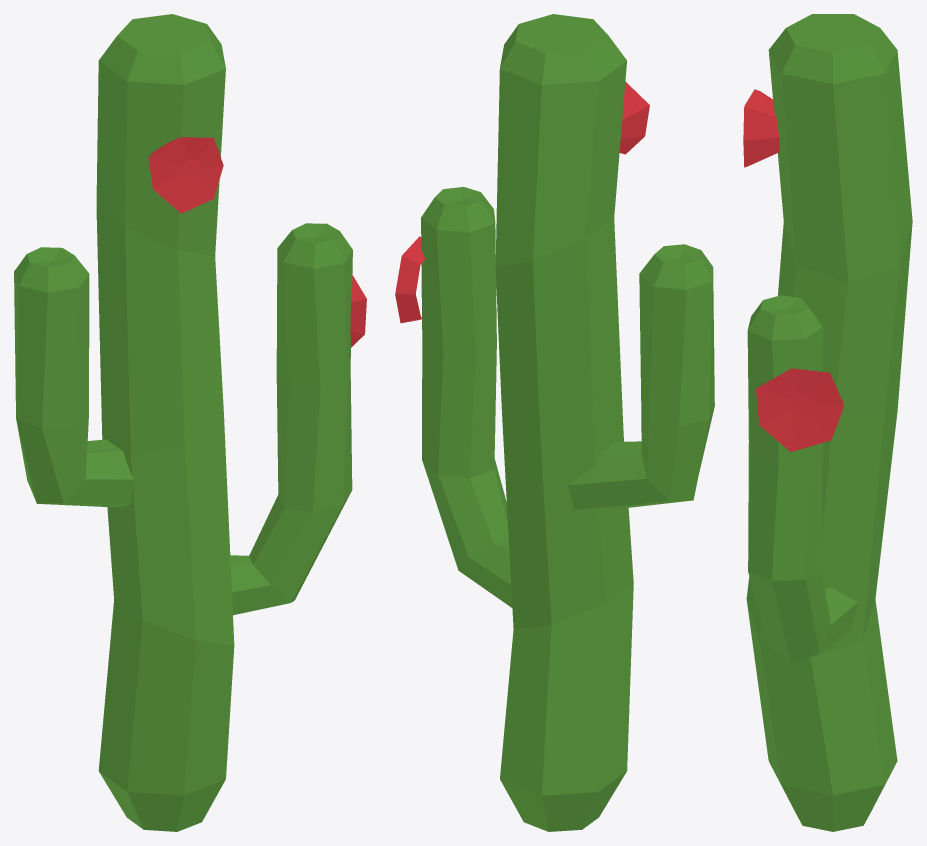
Rendered from cactus-big.glb.
3 renders of one model, left to right at view 1: azimuth 30°, elevation 25°; view 2: azimuth 150°, elevation 25°; view 3: azimuth 270°, elevation 25°, orthographic.
Visible parts, largest first — view 1: cactus-big; view 2: cactus-big; view 3: cactus-big.
Boxes of the visible parts, box(x1,y1,x2,y2) form: cactus-big: box(14, 14, 366, 831); cactus-big: box(395, 14, 714, 831); cactus-big: box(743, 14, 912, 831).
Bounding box in the file's own units: 1.12 × 2.67 × 0.5227.
1 material, 1 textured.
